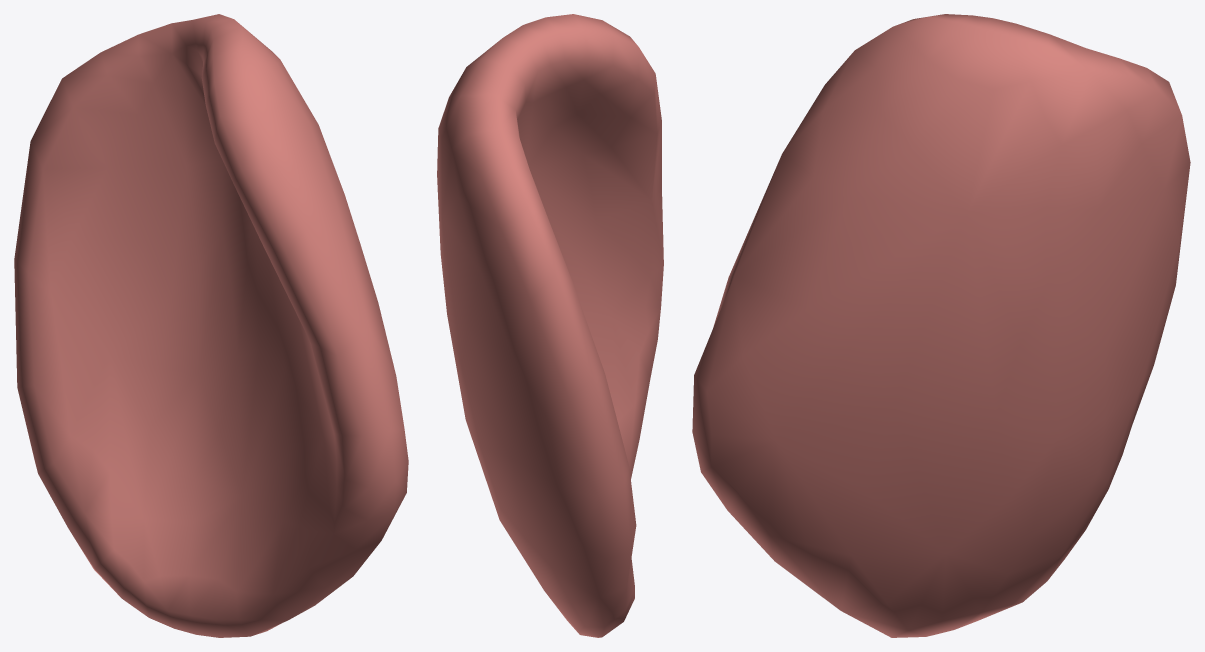
The picture shows the model from 3 angles, left to right: view 1: azimuth 30°, elevation 25°; view 2: azimuth 150°, elevation 25°; view 3: azimuth 270°, elevation 25°; orthographic projection. The views are drawn at different scales.
Parts seen in each view (by area): view 1: ZA_33caaa1f782c5b39; view 2: ZA_33caaa1f782c5b39; view 3: ZA_33caaa1f782c5b39.
Part boxes in pixels (<box>): ZA_33caaa1f782c5b39: <box>14,14,408,637</box>; ZA_33caaa1f782c5b39: <box>437,14,663,637</box>; ZA_33caaa1f782c5b39: <box>692,14,1190,637</box>.
Bounding box in the file's own units: 0.00171 × 0.00415 × 0.00298.
